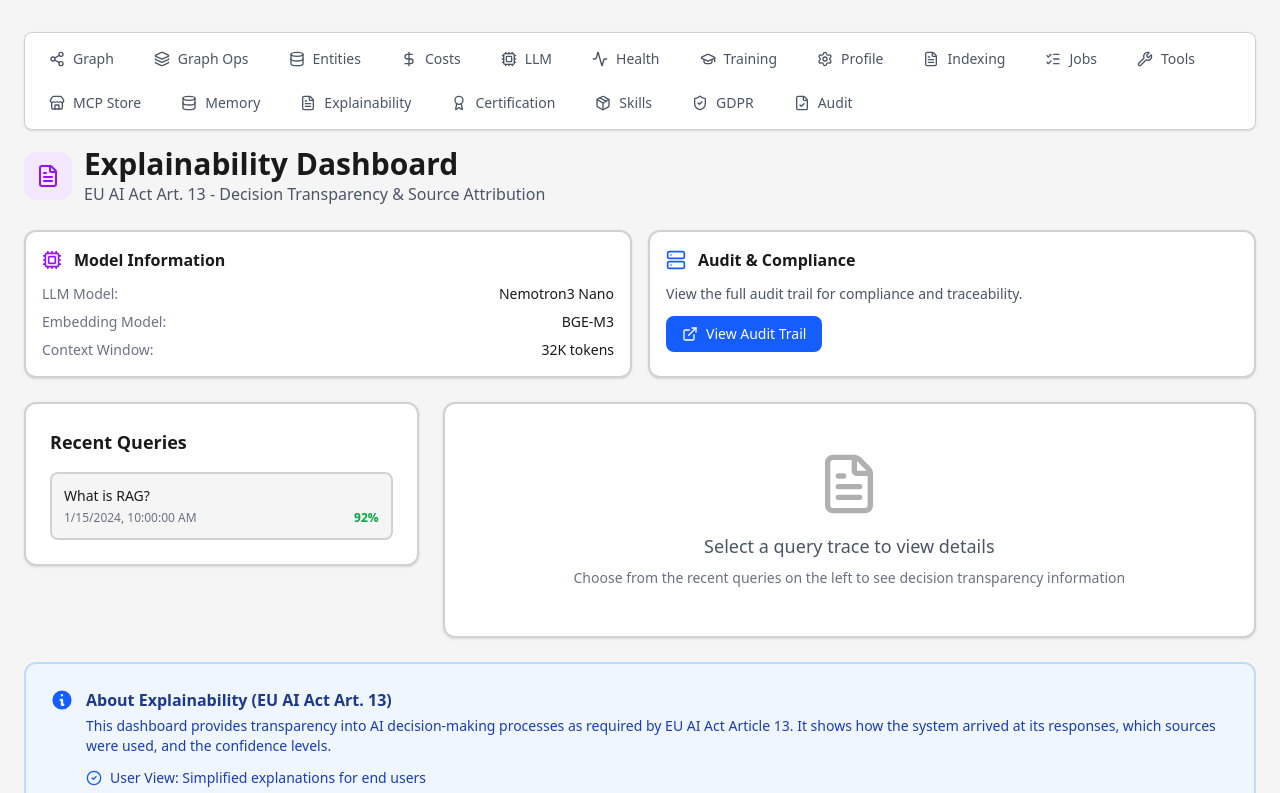
Test: ExplainabilityPage › should display full trace in audit mode
The width and height of the screenshot is (1280, 793).
Expected: the text "What is RAG?" is shown, [64,486,150,505]
Click the button with test id "trace-item-trace-123". click: click(107, 496)
box: [50,472,393,540]
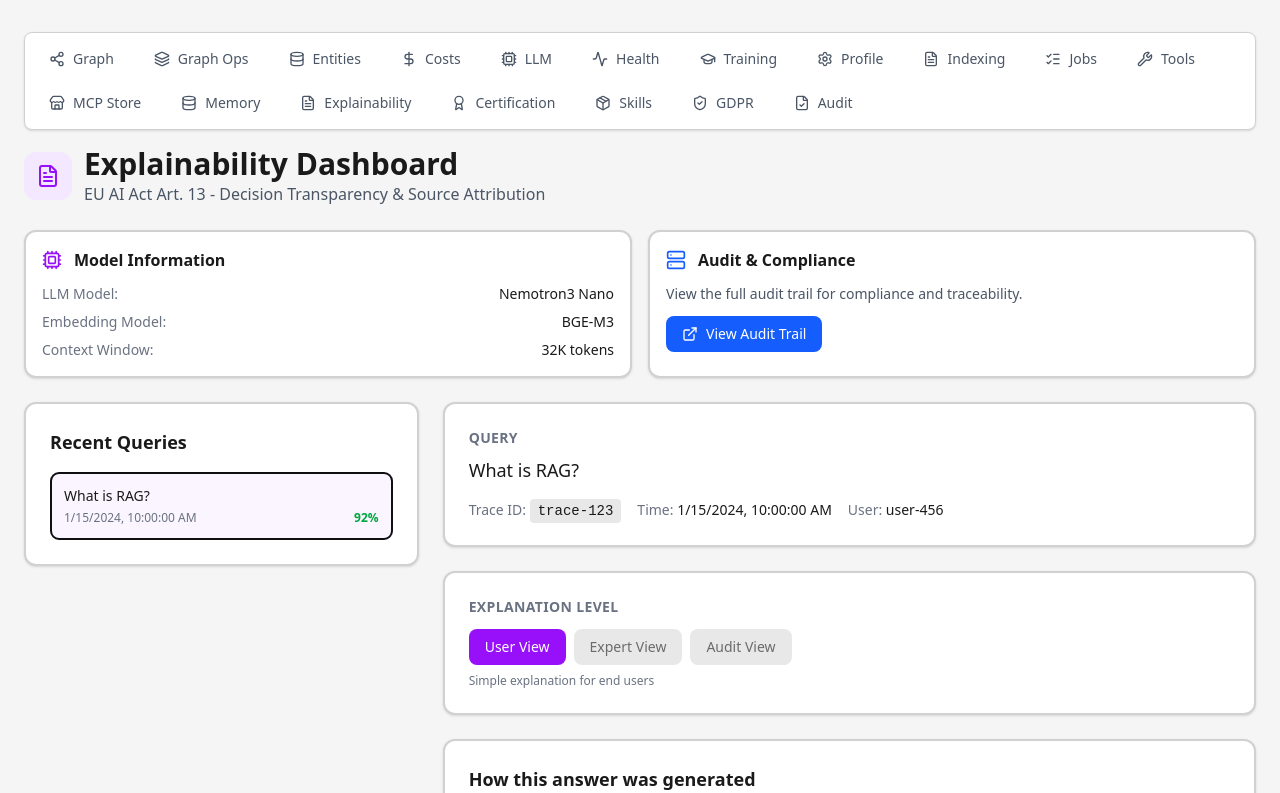
Now the button with test id "level-audit" is shown
Click the button with test id "level-audit". click: click(741, 647)
box: [690,629,792,665]
(page scrolled)
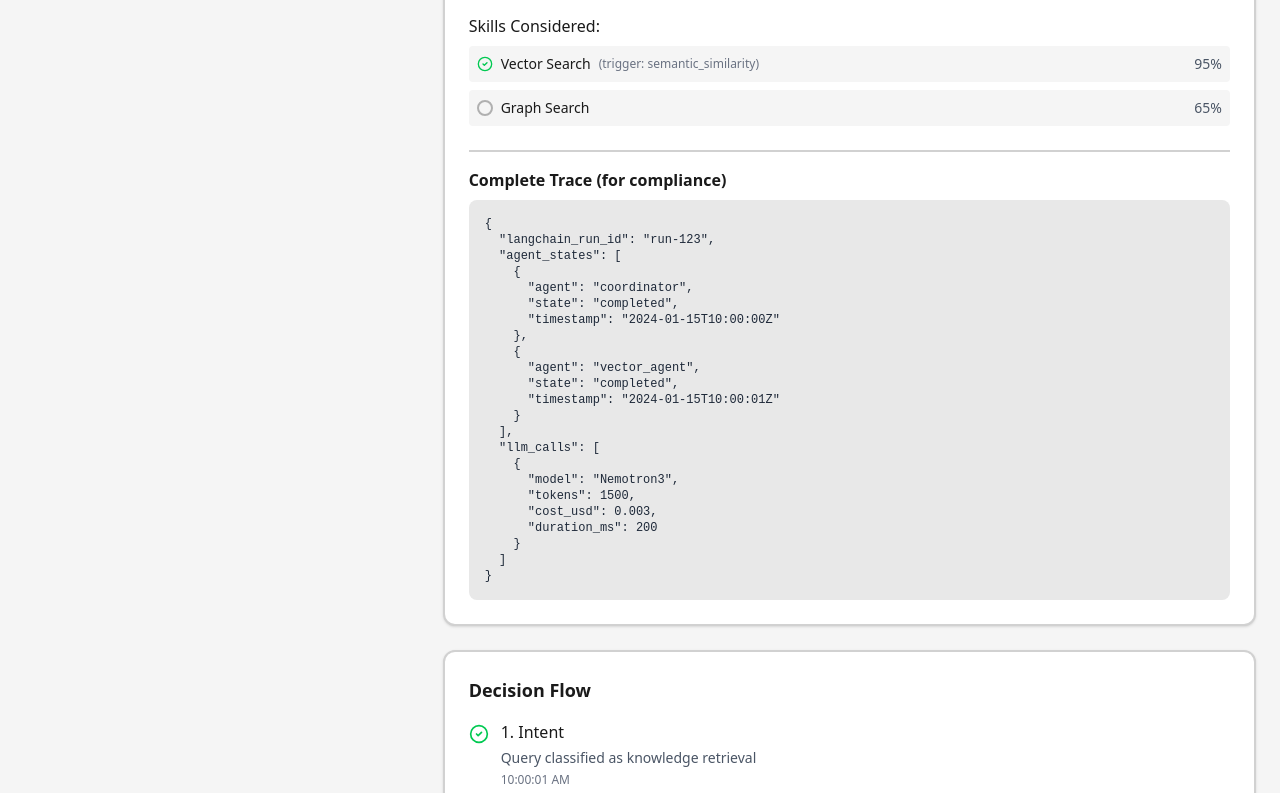
Now the heading "Complete Trace (for compliance)" is shown, box [469,169,726,191]
Now the text "langchain_run_id" is shown, box [485,217,780,583]
